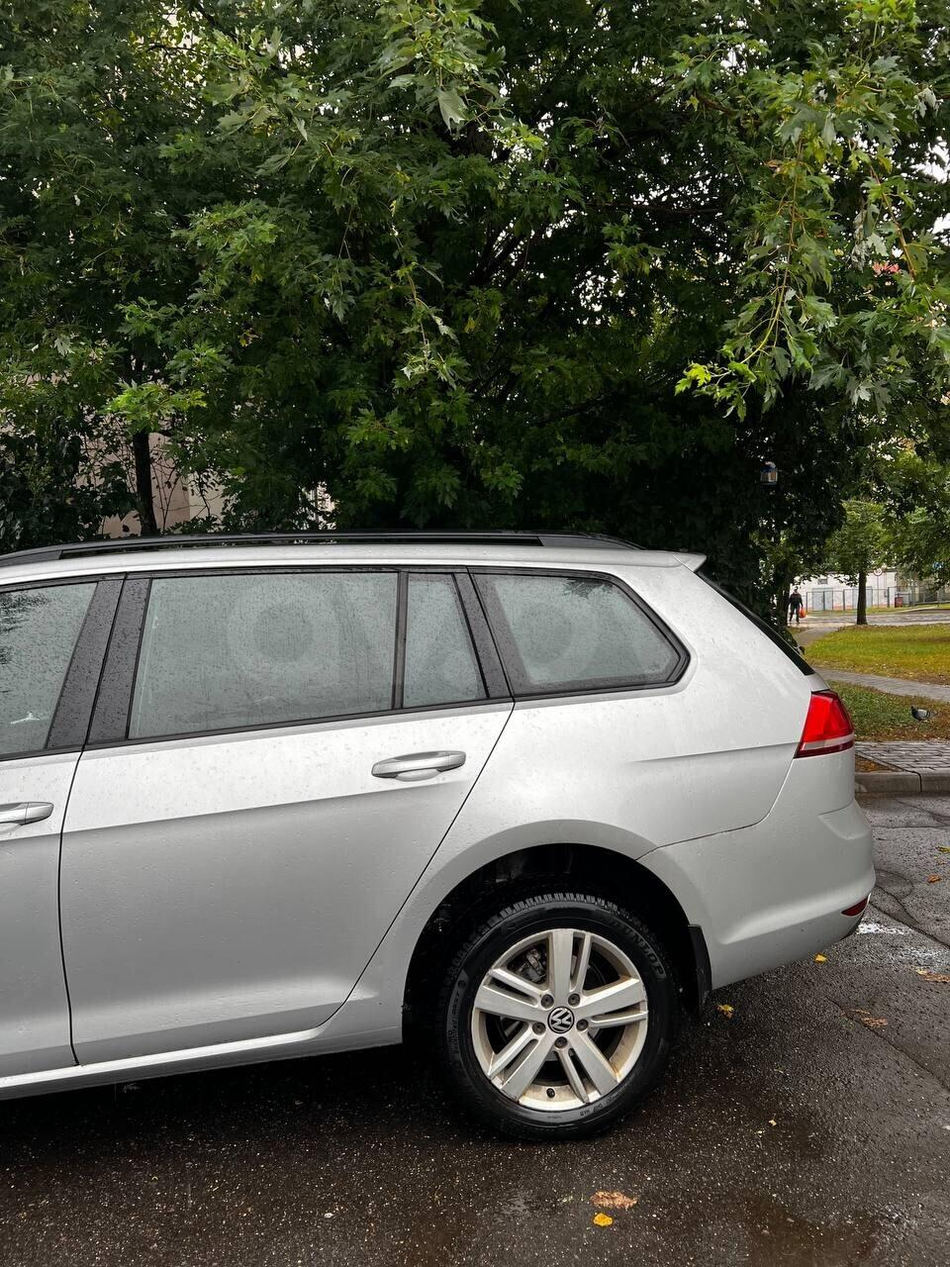Golf_2012-2017: (0, 510, 873, 1160)
